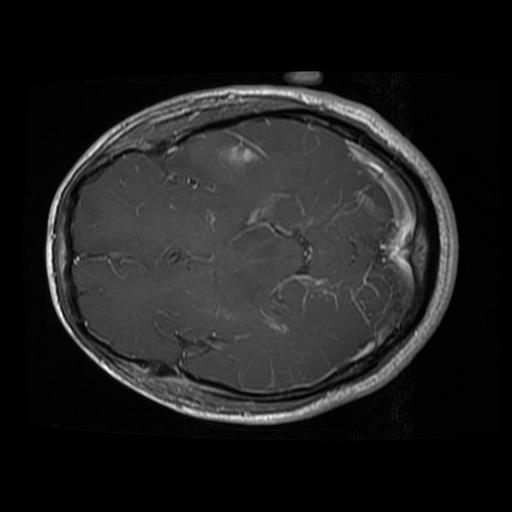glioma: (212, 129, 271, 172)
